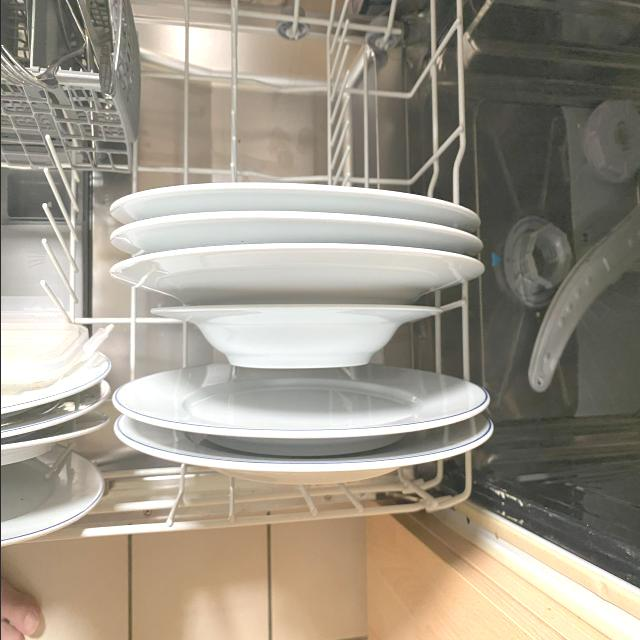empty_slot: (153, 4, 441, 176)
